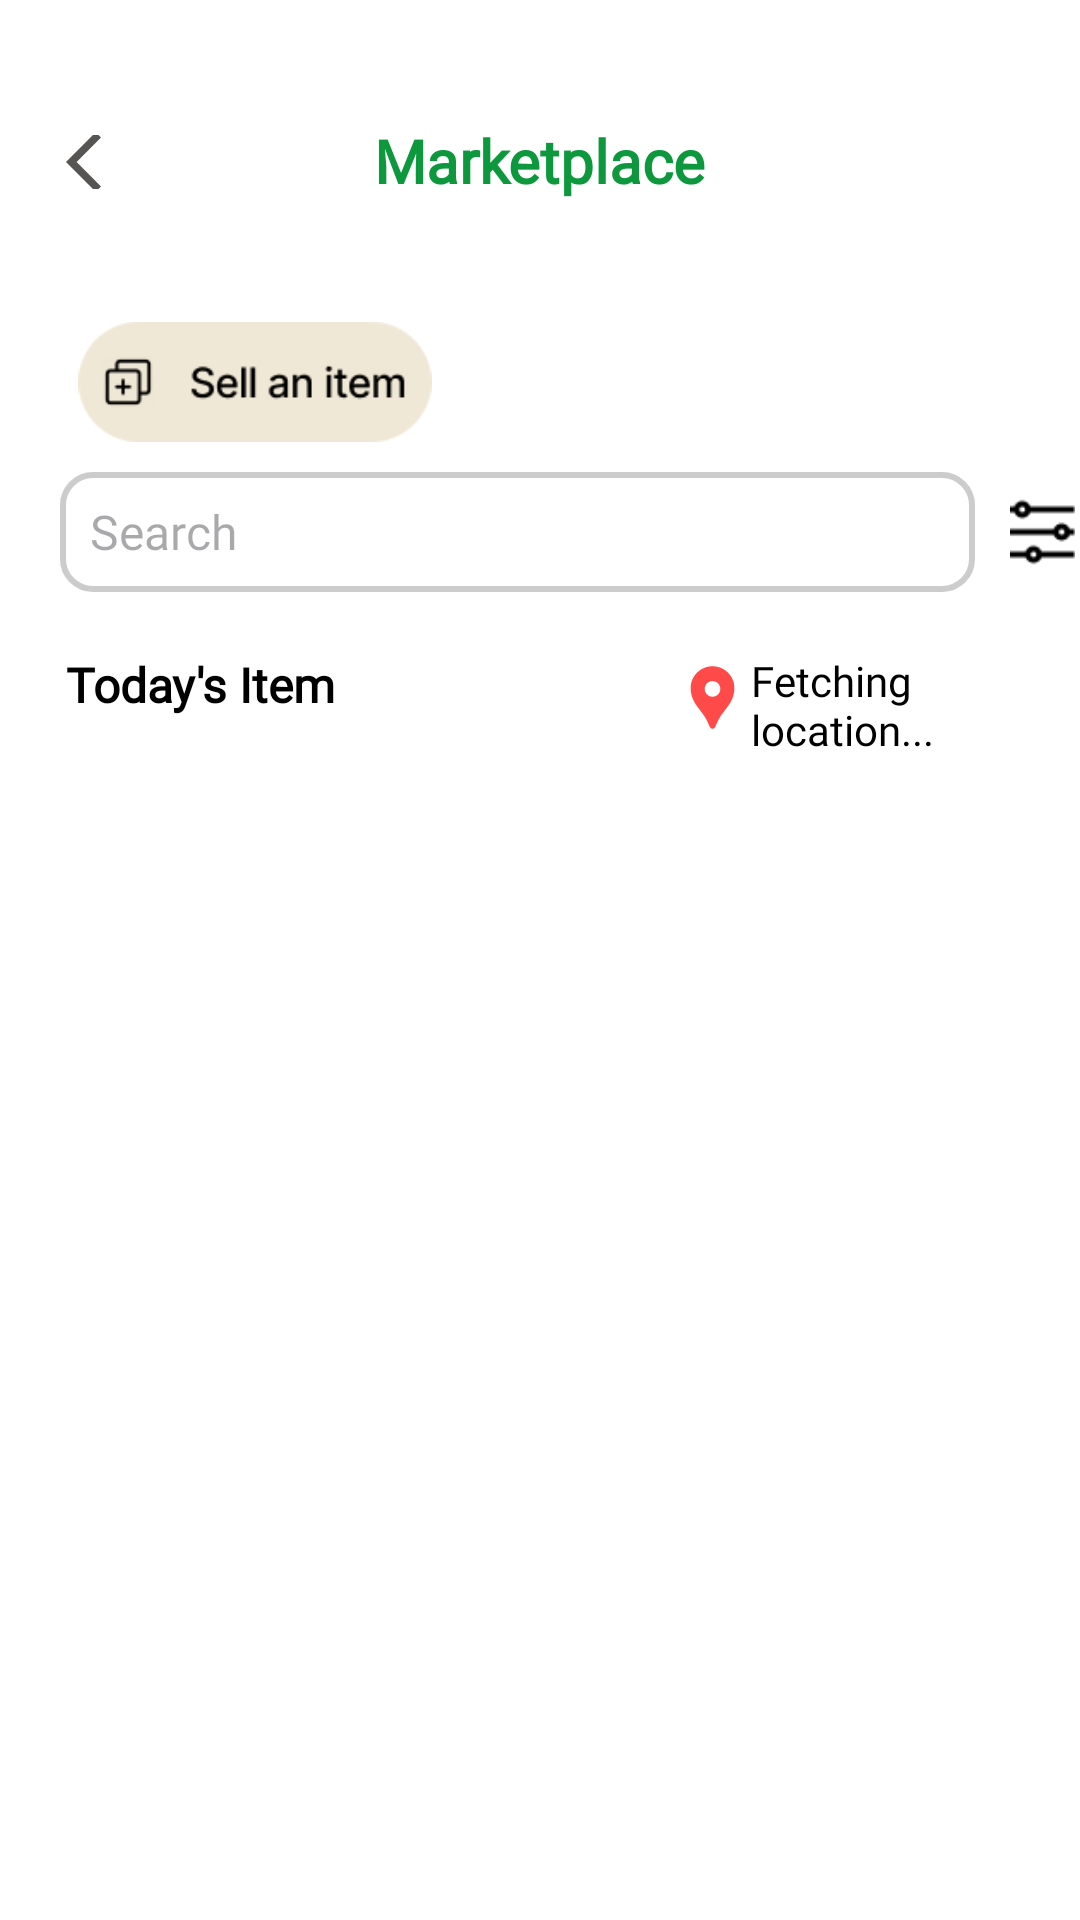

Point at icon controls on the screen. Image size 1080 x 1920, points as (x,y).
arrow back: (83,162)
filter: (1042,532)
location pin: (724,704)
